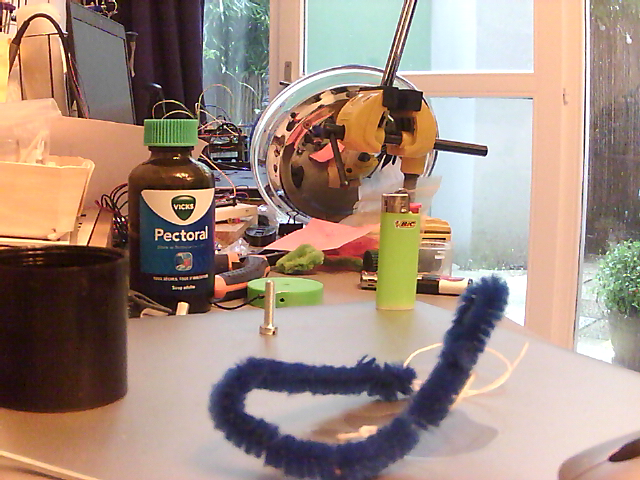bolt: (259, 282, 282, 336)
lighter: (376, 200, 422, 317)
